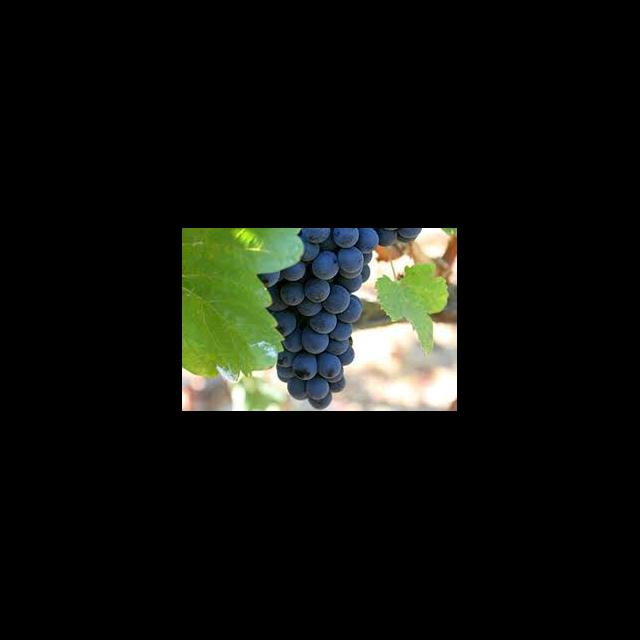grape: (258, 228, 422, 410)
